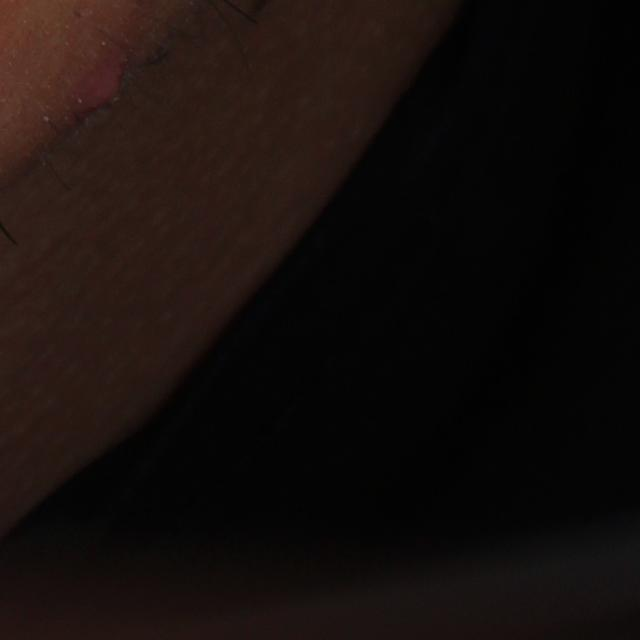papule: (67, 48, 129, 123)
